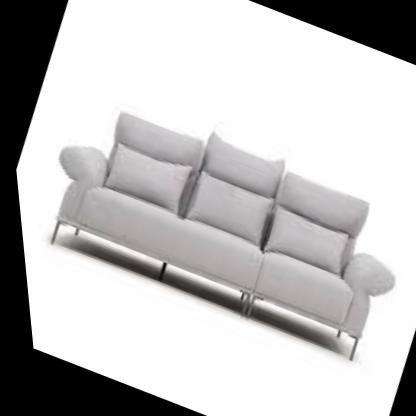Sofa: (5, 63, 416, 382)
